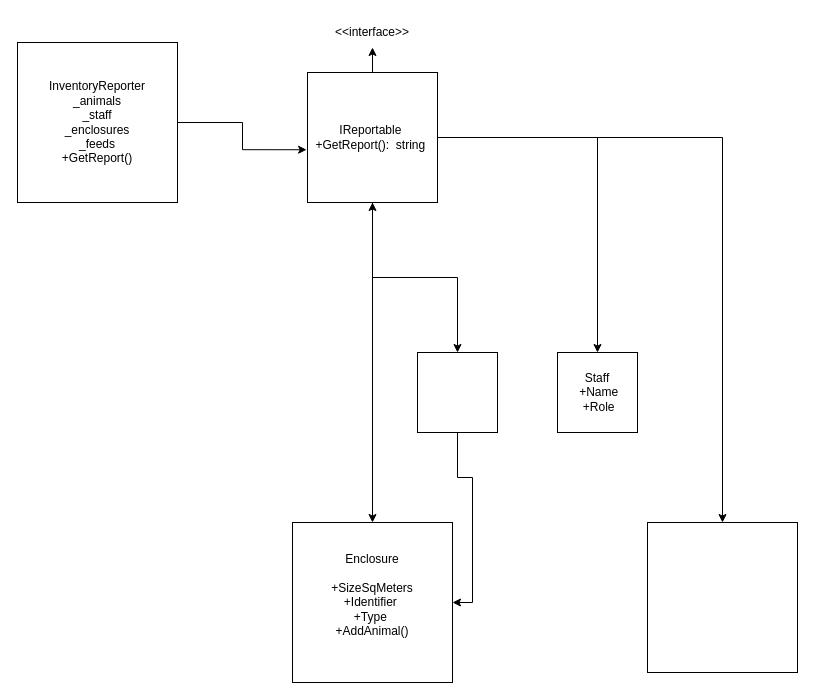
The diagram is 815 pixels wide and 700 high, and some of its shapes have lost their labels. Here are the shapes that lost their labels. From the top down, the centre of each, then its label:
At (457,392): "Animal +Name +Species".
At (722,597): "Feed +AnimalType +FoodType +QuantityKg".
